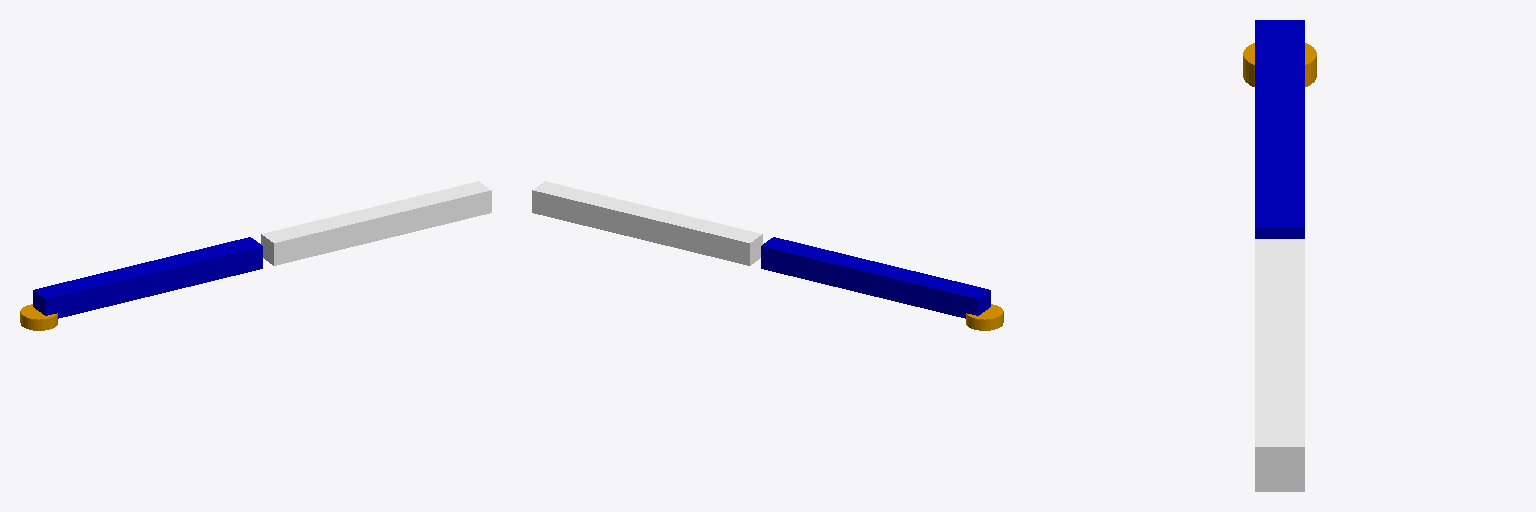
The robot description file, URDF, robot "TwoJointRobot":
<?xml version="0.0" ?>
<robot name="TwoJointRobot">
  <material name="blue">
    <color rgba="0 0 0.8 1"/>
  </material>
  <material name="white">
    <color rgba="1 1 1 1"/>
  </material>

  <link name="base_link">
    <visual>
      <geometry>
        <cylinder length="0.05" radius="0.075"/>
      </geometry>
      <origin rpy="0 0 0" xyz="0 0 0.025"/>
    </visual>
    <collision>
      <geometry>
        <cylinder length="0.05" radius="0.075"/>
      </geometry>
      <origin rpy="0 0 0" xyz="0 0 0.025"/>
    </collision>
    <inertial>
      <mass value="0.2"/>
      <origin rpy="0 0 0" xyz="0 0 0"/>
      <inertia ixx="0.000322916666667" ixy="0.0" ixz="0.0" iyy="0.000322916666667" iyz="0.0" izz="0.0005625"/>
    </inertial>
  </link>

  <joint name="joint_1" type="revolute">
    <axis xyz="0 1 0"/>
    <limit effort="10000" velocity="100"/>
    <dynamics damping="0" friction="0"/>
    <origin rpy="0 0 0" xyz="0 0 0.075"/>
    <parent link="base_link"/>
    <child link="link_1"/>
  </joint>

  <link name="link_1">
    <visual>
      <geometry>
        <box size="1.0 0.1 0.1"/>
      </geometry>
      <origin rpy="0 0 0" xyz="0.5 0 0"/>
      <material name="blue"/>
    </visual>
    <collision>
      <geometry>
        <box size="1.0 0.1 0.1"/>
      </geometry>
      <origin rpy="0 0 0" xyz="0.5 0 0"/>
    </collision>
    <inertial>
      <mass value="0.5"/>
      <origin rpy="0 0 0" xyz="0.5 0 0"/>
      <inertia ixx="0.00208333333333" ixy="0.0125" ixz="0.00625" iyy="0.167083333333" iyz="0.000625" izz="0.168333333333"/>
    </inertial>
  </link>

  <joint name="joint_2" type="revolute">
    <axis xyz="0 1 0"/>
    <limit effort="10000" velocity="100"/>
    <dynamics damping="0" friction="0"/>
    <origin rpy="0 0 0" xyz="1.05 0. 0.0"/>
    <parent link="link_1"/>
    <child link="link_2"/>
  </joint>

  <link name="link_2">
    <visual>
      <geometry>
        <box size="1.0 0.1 0.1"/>
      </geometry>
      <origin rpy="0 0 0" xyz="0.5 0 0"/>
      <material name="white"/>
    </visual>
    <collision>
      <geometry>
        <box size="1.0 0.1 0.1"/>
      </geometry>
      <origin rpy="0 0 0" xyz="0.5 0 0"/>
    </collision>
    <inertial>
      <origin rpy="0 0 0" xyz="0.5 0 0"/>
      <mass value="0.5"/>
      <inertia ixx="0.00208333333333" ixy="0.0125" ixz="0.00625" iyy="0.167083333333" iyz="0.000625" izz="0.168333333333"/>
    </inertial>
  </link>

</robot>

--- Render facts (derived) ---
Views: 3 orthographic renders of the robot side by side, from view 1: azimuth 30°, elevation 25°; view 2: azimuth 150°, elevation 25°; view 3: azimuth 270°, elevation 25°.
Robot: TwoJointRobot — 3 links, 2 joints (2 revolute); root link base_link; default pose: all joints at 0.
Links seen in each view (by area): view 1: link_2, link_1, base_link; view 2: link_2, link_1, base_link; view 3: link_2, link_1, base_link.
Boxes of the visible links, x1,y1,x2,y2 form: link_2: (261,181,491,265); link_1: (33,237,262,318); base_link: (20,304,57,330); link_2: (532,181,762,265); link_1: (761,237,990,318); base_link: (966,304,1003,330); link_2: (1255,239,1304,491); link_1: (1255,20,1304,238); base_link: (1243,43,1316,86).
Size in the robot's own frame: 2.12 by 0.15 by 0.125 metres.
Geometry: primitives only (box / cylinder / sphere), no mesh files.